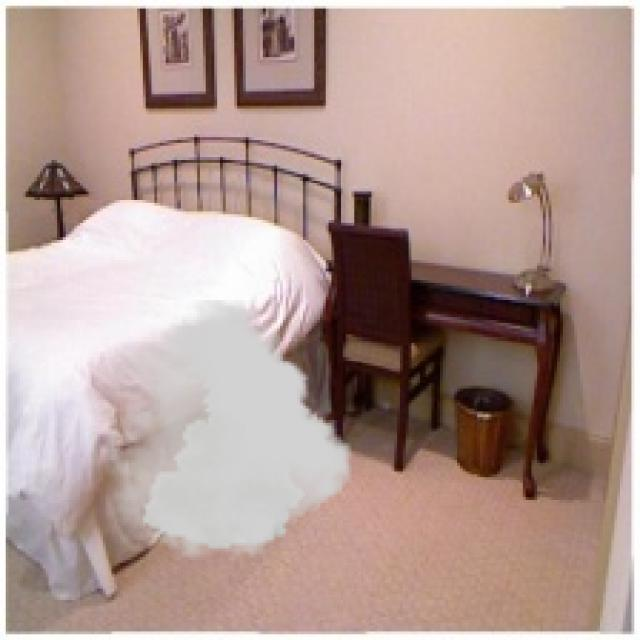smoke: (106, 300, 351, 560)
